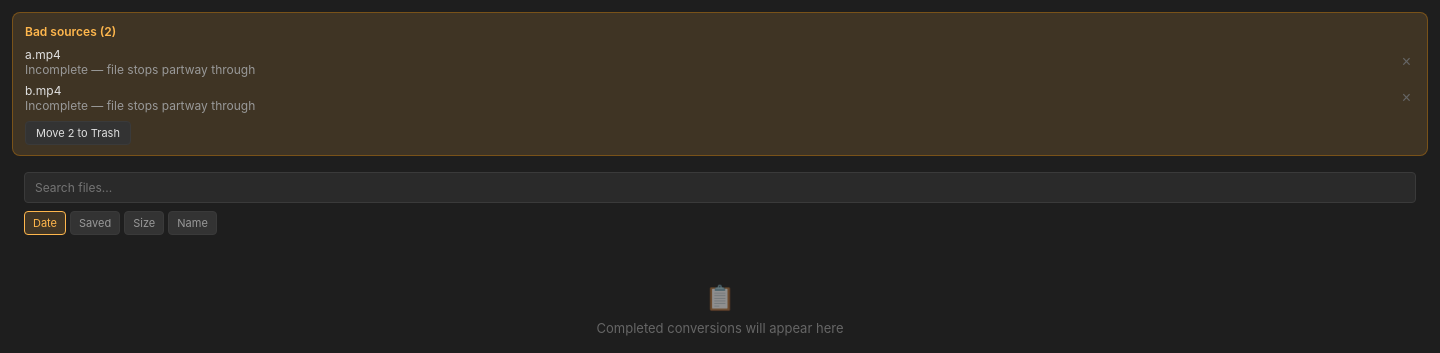
it: HistoryPage › bad-source review list › dismisses a single row that purge can never clear, without purging anything
expect the text "Bad sources (2)" is shown: met, box [25, 24, 116, 39]
Click the button "Move 2 to Trash": (78, 133) [25, 121, 131, 145]
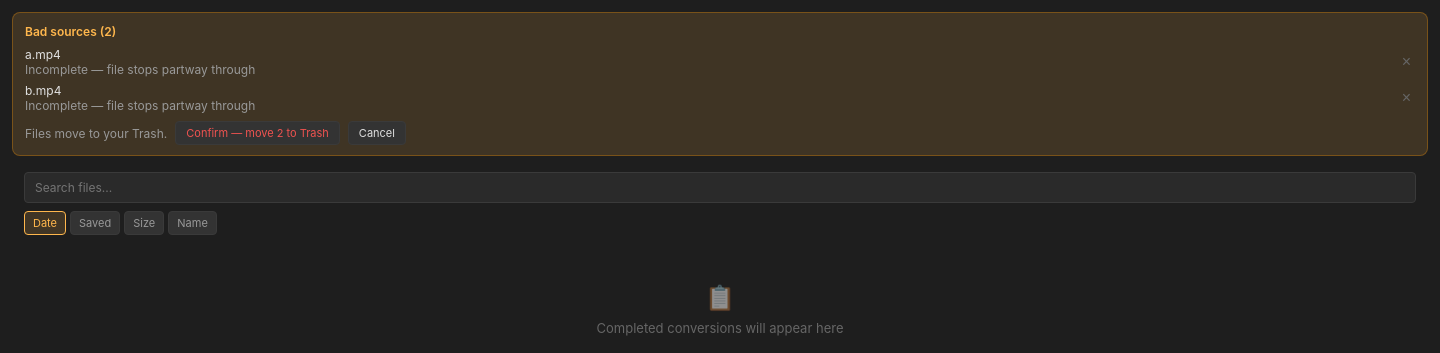
Click the button "Confirm — move 2 to Trash": (258, 133) [175, 121, 340, 145]
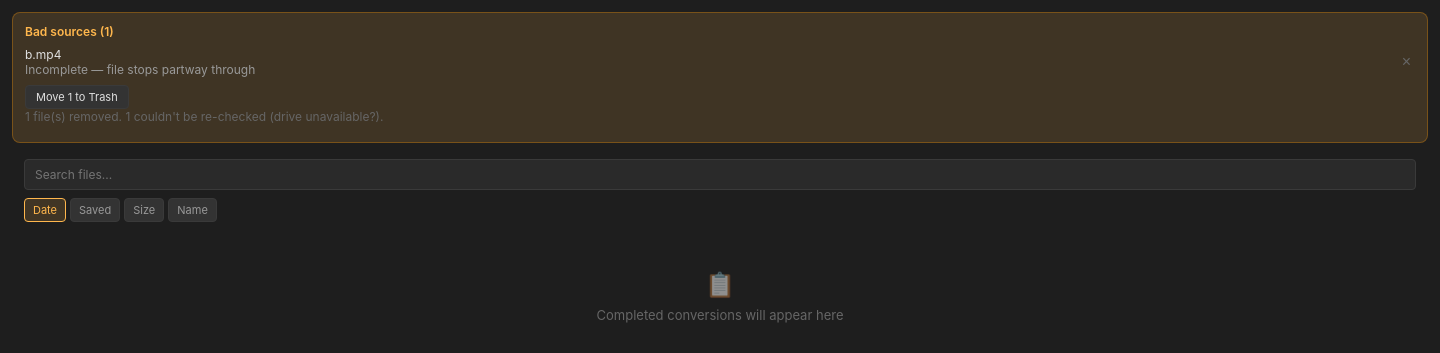
expect the text "Bad sources (1)" is shown: met, box [25, 24, 114, 39]
Click the button named "Remove b.mp4 from list": (1406, 62) [1398, 54, 1415, 70]
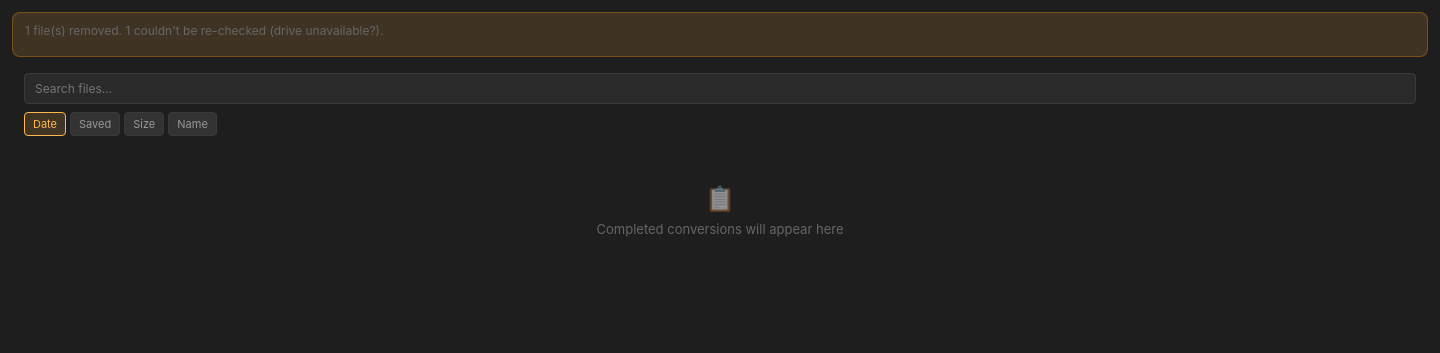
expect the text "Bad sources" is gone: met
